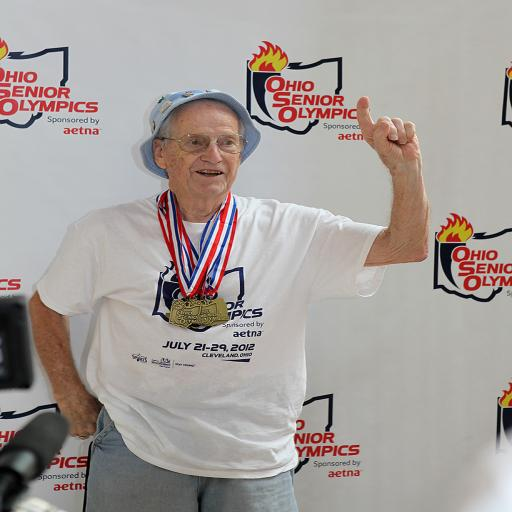Person: (71, 64, 424, 505)
goggles: (182, 132, 251, 154)
no_gloves: (88, 386, 153, 456), (328, 94, 392, 165)
no_helmet: (163, 80, 250, 123)
none: (110, 201, 305, 454)
